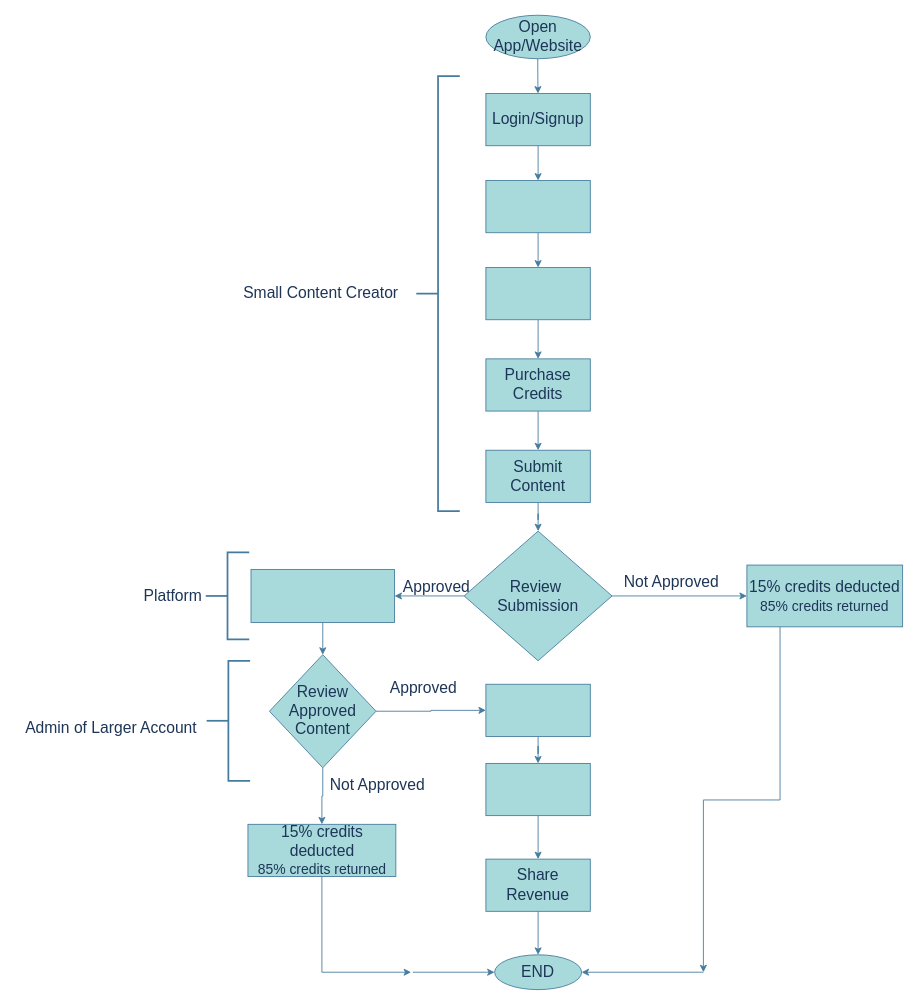
Some shapes in this 918 by 1005 pixel diagram are drawn without their labels. Here are the shapes that lost their labels. From the top down, the centre of each, then its label:
the point at 537,206: Create Channel
the point at 537,293: Upload Content
the point at 322,595: Forward Approved Content
the point at 537,709: Publish Approved Content
the point at 537,789: Revenue Generated
